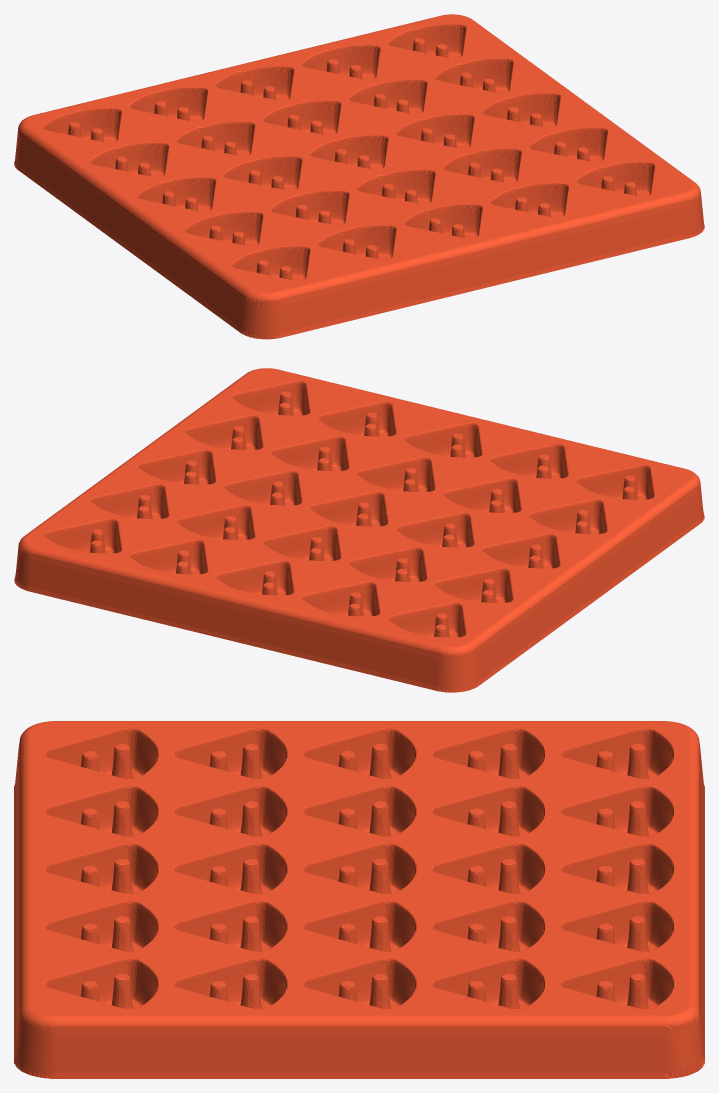
File: mold.glb
3 views of the same model, one above another, from view 1: azimuth 30°, elevation 25°; view 2: azimuth 150°, elevation 25°; view 3: azimuth 270°, elevation 25° (orthographic). The views are drawn at different scales.
Visible parts, largest first — view 1: geometry_0; view 2: geometry_0; view 3: geometry_0.
Boxes of the visible parts, <box> form: geometry_0: <box>14,14,704,339</box>; geometry_0: <box>14,368,704,692</box>; geometry_0: <box>14,721,704,1078</box>.
Size of the model in its own units: 0.1584 by 0.0136 by 0.1506.
